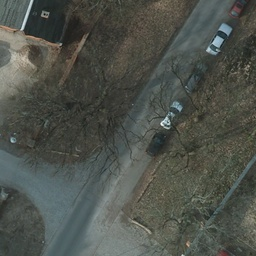car: (202, 22, 236, 56), (178, 60, 212, 94), (153, 98, 187, 132), (138, 126, 172, 160)
